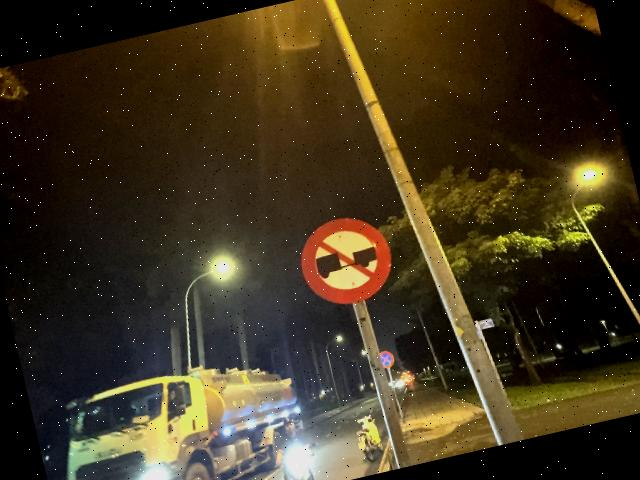cam-xe-somi-romooc: (292, 208, 400, 313)
